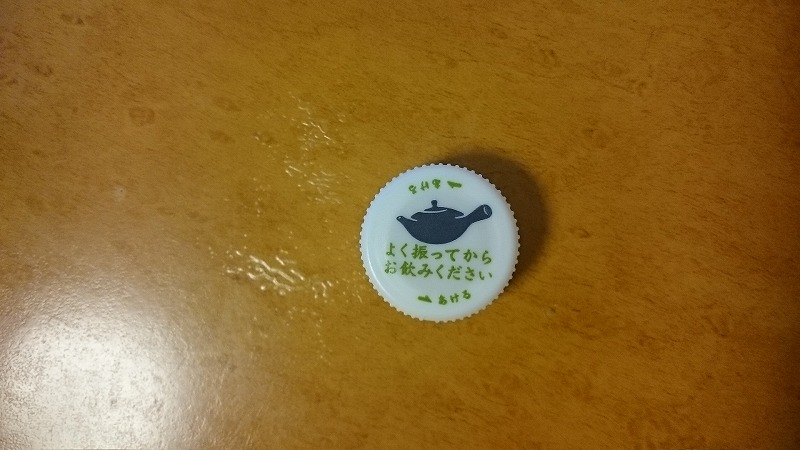A: (351, 156, 528, 326)
